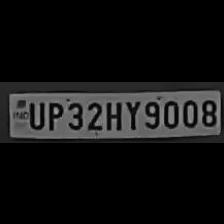0: (160, 96, 180, 128), (180, 95, 198, 127)
2: (84, 97, 103, 130)
3: (63, 97, 83, 130)
8: (198, 95, 216, 127)
9: (140, 96, 160, 130)
H: (104, 97, 122, 130)
P: (45, 97, 63, 130)
U: (25, 99, 43, 129)
Y: (122, 97, 140, 131)
